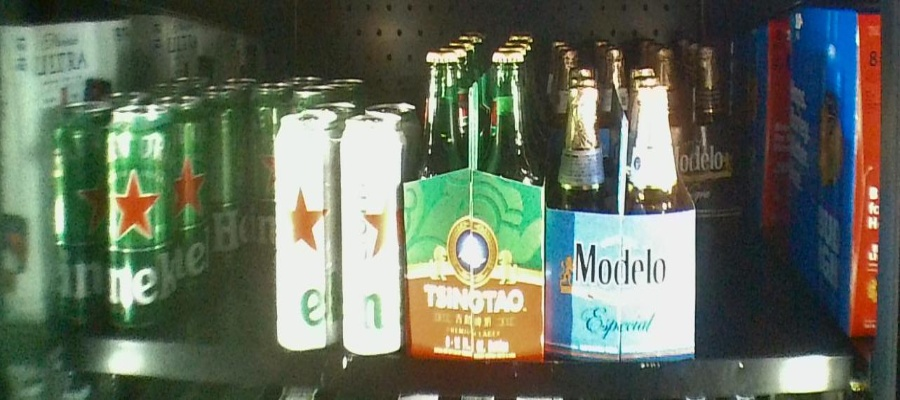bottle: (545, 53, 697, 364), (406, 48, 542, 357), (274, 112, 405, 356), (50, 105, 171, 329), (661, 45, 737, 220), (242, 80, 274, 253)
